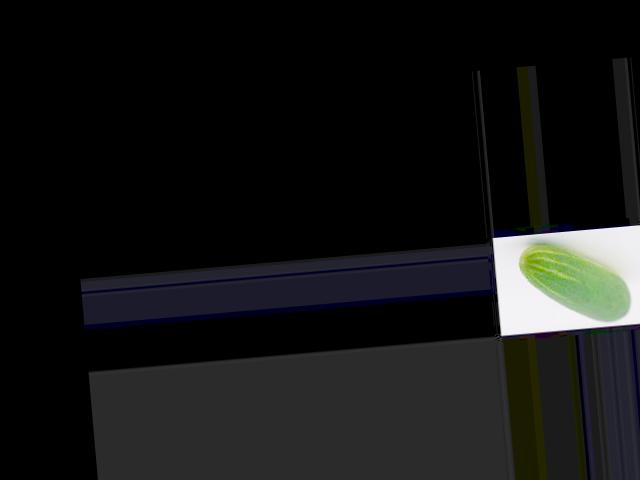cucumber: (517, 236, 633, 329)
